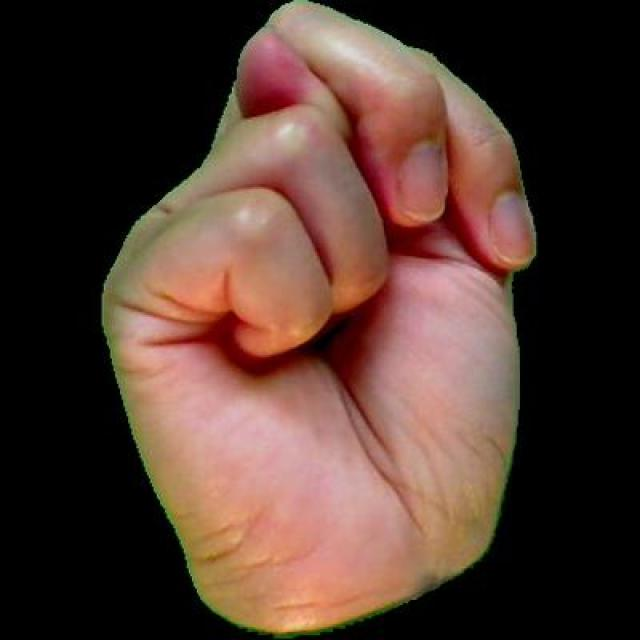n: (75, 0, 536, 637)
